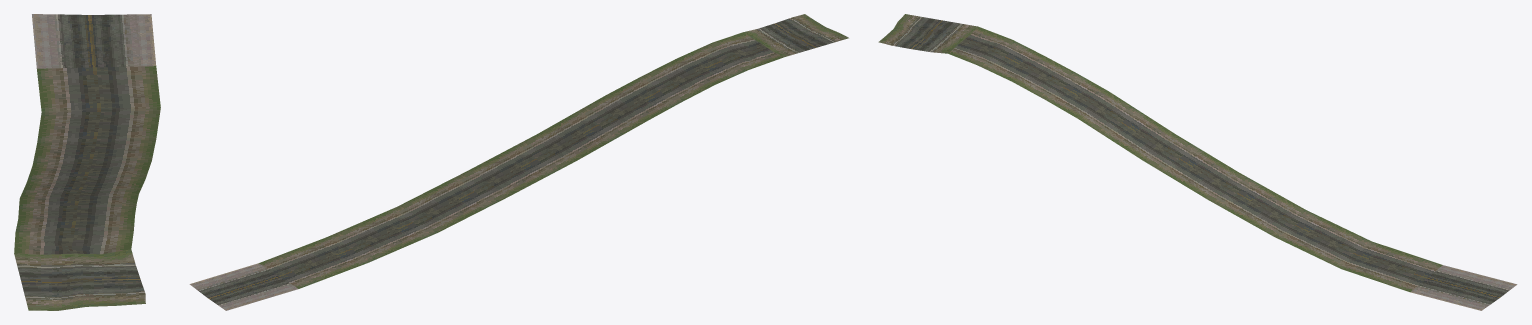
File: lodcunte_roads13.obj
3 renders of one model, left to right at view 1: azimuth 90°, elevation 25°; view 2: azimuth 210°, elevation 25°; view 3: azimuth 330°, elevation 25°, orthographic. The views are drawn at different scales.
Parts seen in each view (by area): view 1: LODcunte_roads13; view 2: LODcunte_roads13; view 3: LODcunte_roads13.
Boxes of the visible parts, left/top/right/bottom form: LODcunte_roads13: left=14, top=14, right=160, bottom=310; LODcunte_roads13: left=189, top=14, right=848, bottom=310; LODcunte_roads13: left=878, top=14, right=1517, bottom=310.
Bounding box in the file's own units: 196 × 37.07 × 24.51.
3 materials, 3 textured.
